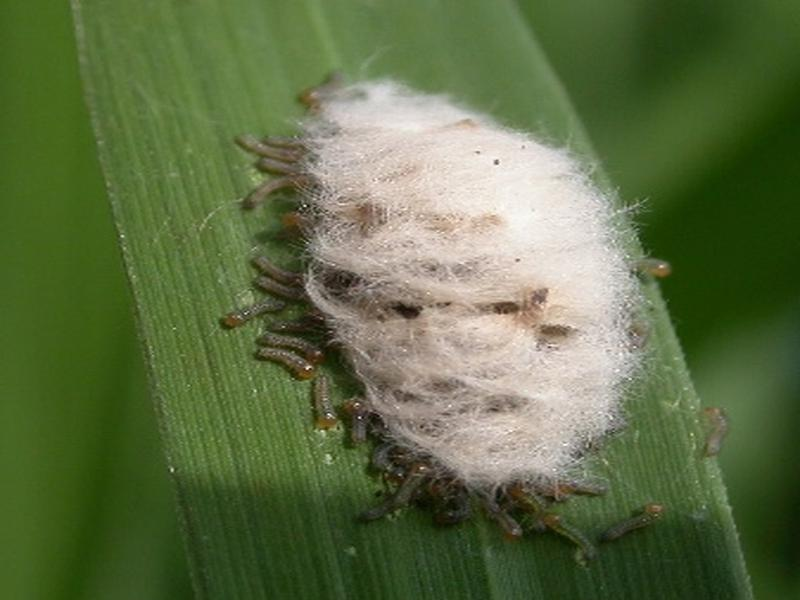Paddy_stemborer: (233, 87, 658, 545)
